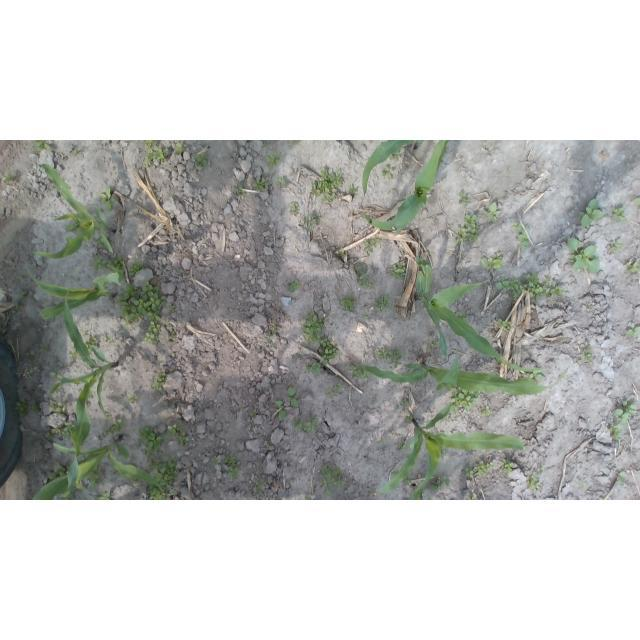Maize: (364, 401, 524, 500), (412, 255, 544, 374), (60, 289, 116, 500), (30, 436, 166, 500), (29, 163, 118, 259), (361, 140, 447, 236), (357, 361, 570, 396), (26, 266, 121, 318), (362, 141, 423, 200)
Weeds: (567, 237, 600, 273), (139, 280, 165, 320), (117, 283, 139, 330), (148, 456, 177, 490), (312, 167, 343, 196), (302, 309, 325, 345), (450, 386, 482, 411), (456, 214, 481, 244), (580, 199, 604, 230), (139, 426, 163, 456), (320, 467, 345, 492), (522, 272, 544, 298), (614, 400, 636, 426), (319, 339, 340, 366), (542, 278, 566, 300), (293, 415, 319, 434), (143, 321, 161, 346), (481, 252, 504, 270), (166, 424, 186, 444), (147, 146, 170, 163), (86, 465, 102, 489), (517, 226, 532, 251), (430, 476, 452, 493), (509, 278, 527, 298), (526, 472, 543, 493), (364, 234, 380, 255), (100, 187, 114, 211), (149, 486, 173, 500), (610, 205, 628, 223), (483, 202, 499, 222), (473, 460, 493, 476), (349, 363, 370, 378), (303, 360, 324, 375), (192, 151, 210, 168), (48, 400, 66, 417), (105, 419, 124, 435), (152, 372, 167, 392), (374, 294, 391, 310), (340, 295, 356, 312), (253, 177, 271, 192), (391, 262, 406, 280), (129, 262, 147, 277), (303, 214, 317, 233), (16, 398, 29, 418), (85, 335, 99, 353), (525, 369, 544, 382), (32, 141, 54, 152), (625, 322, 640, 338), (66, 217, 82, 232), (390, 346, 402, 366), (108, 257, 125, 271), (288, 387, 299, 408), (267, 153, 282, 168), (357, 274, 371, 289), (92, 256, 107, 270), (376, 346, 391, 360), (502, 458, 515, 474), (228, 462, 241, 478), (62, 422, 74, 439), (235, 186, 250, 199), (382, 167, 395, 182), (610, 425, 623, 440), (286, 280, 300, 293), (497, 320, 511, 333), (496, 278, 509, 292), (609, 239, 622, 253), (584, 342, 593, 361), (54, 465, 67, 478), (23, 365, 35, 379), (221, 453, 235, 465), (625, 262, 640, 273), (276, 175, 290, 186), (396, 441, 412, 450), (3, 172, 14, 185), (253, 479, 264, 492), (465, 467, 476, 480), (321, 193, 335, 203), (69, 347, 79, 361), (477, 406, 491, 416), (141, 140, 156, 149), (267, 324, 278, 336), (458, 191, 469, 203), (388, 151, 400, 162), (290, 200, 298, 216), (32, 400, 41, 414), (458, 313, 469, 324), (174, 143, 186, 153), (347, 185, 357, 196), (65, 489, 75, 500), (333, 383, 343, 394), (617, 470, 626, 482), (278, 410, 287, 422), (403, 475, 413, 485), (49, 472, 60, 481), (43, 432, 53, 441), (38, 344, 48, 353), (511, 221, 522, 229), (131, 394, 142, 402), (404, 413, 412, 424), (428, 341, 439, 349), (50, 427, 62, 434), (20, 290, 29, 299), (326, 390, 335, 399), (168, 303, 176, 313), (96, 237, 104, 247), (12, 301, 20, 311), (101, 492, 111, 500), (401, 398, 409, 408), (444, 415, 452, 425), (288, 140, 301, 146), (212, 456, 219, 467), (275, 400, 284, 408), (145, 157, 152, 167), (51, 372, 61, 379), (448, 405, 455, 415), (168, 332, 176, 340), (64, 461, 72, 469), (339, 247, 346, 256), (251, 409, 258, 418), (469, 493, 478, 500), (266, 444, 274, 451), (374, 267, 380, 276), (439, 451, 445, 460), (357, 267, 364, 274), (105, 336, 112, 343), (165, 322, 171, 330), (389, 427, 395, 435), (304, 496, 313, 501), (119, 275, 125, 282), (74, 148, 81, 154), (379, 439, 387, 444), (119, 392, 125, 398), (323, 491, 329, 497), (36, 354, 41, 361), (27, 353, 32, 359), (363, 313, 369, 318), (540, 467, 545, 473), (263, 436, 268, 442), (83, 330, 88, 336), (588, 305, 592, 311), (297, 354, 301, 359), (427, 497, 433, 500), (18, 277, 22, 280), (579, 357, 582, 361)
